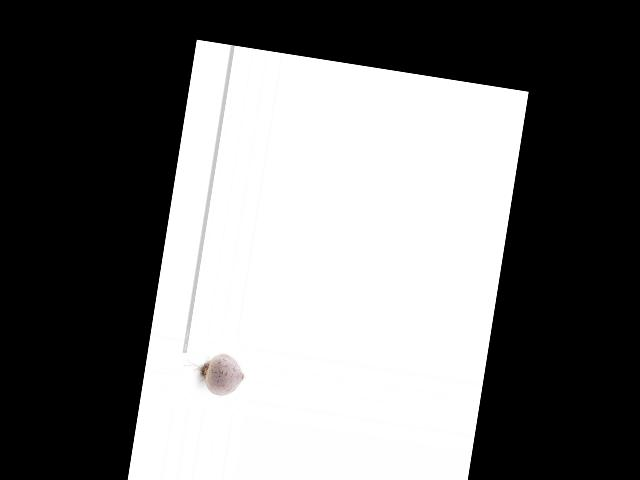beet: (179, 347, 247, 398)
